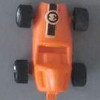naranja: (14, 3, 87, 99)
